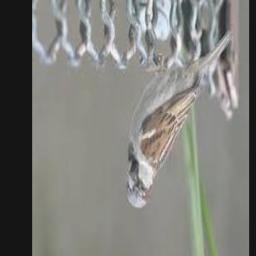Sparrow: (125, 25, 233, 210)
